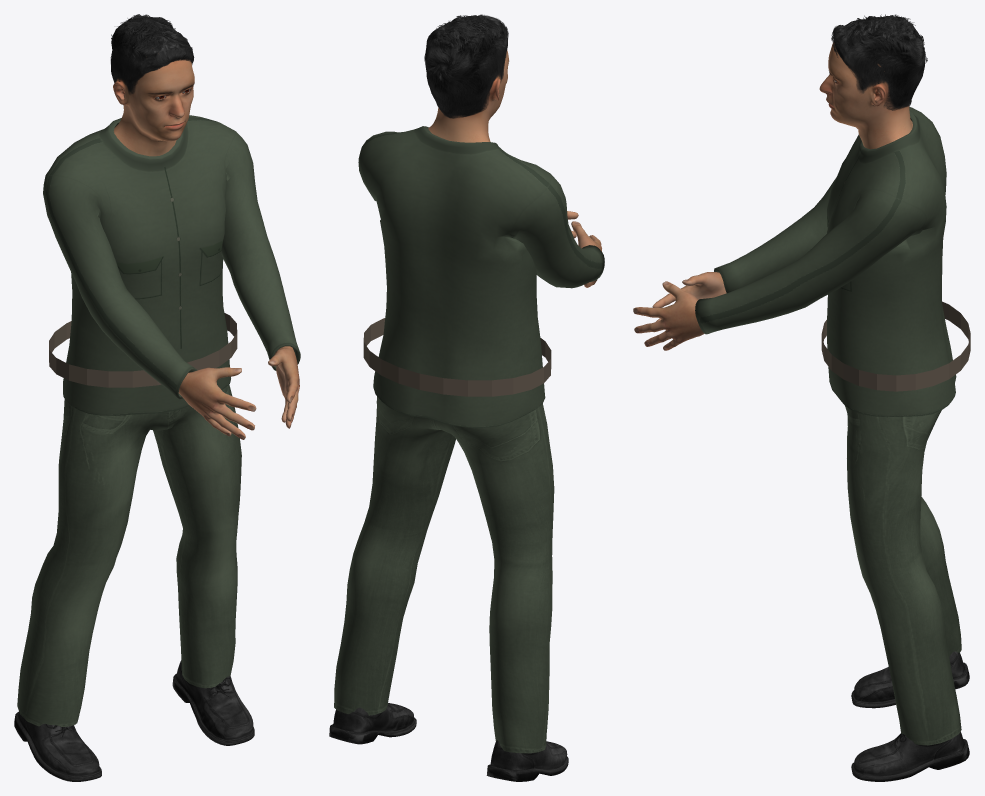
The model's file is guard_field_morph.glb.
3 views of the same model, side by side, from view 1: azimuth 30°, elevation 25°; view 2: azimuth 150°, elevation 25°; view 3: azimuth 270°, elevation 25° (orthographic).
Visible parts, largest first — view 1: Field_ContactBody.male_casualsuit02, Field_ContactBody, Field_ContactBody.shoes04, Field_ContactBody.short01, Field_Plain leather waist belt; view 2: Field_ContactBody.male_casualsuit02, Field_ContactBody.short01, Field_ContactBody.shoes04, Field_Plain leather waist belt, Field_ContactBody; view 3: Field_ContactBody.male_casualsuit02, Field_ContactBody, Field_ContactBody.short01, Field_ContactBody.shoes04, Field_Plain leather waist belt.
Boxes of the visible parts, box(x1,y1,x2,y2) form: Field_ContactBody.male_casualsuit02: box(17, 115, 300, 726); Field_ContactBody: box(113, 59, 299, 439); Field_ContactBody.shoes04: box(14, 660, 254, 781); Field_ContactBody.short01: box(110, 14, 194, 105); Field_Plain leather waist belt: box(49, 313, 237, 387); Field_ContactBody.male_casualsuit02: box(334, 126, 604, 753); Field_ContactBody.short01: box(424, 14, 508, 118); Field_ContactBody.shoes04: box(329, 703, 568, 781); Field_Plain leather waist belt: box(363, 318, 551, 396); Field_ContactBody: box(428, 50, 601, 287); Field_ContactBody.male_casualsuit02: box(695, 107, 961, 745); Field_ContactBody: box(633, 42, 912, 350); Field_ContactBody.short01: box(831, 14, 927, 110); Field_ContactBody.shoes04: box(851, 651, 969, 781); Field_Plain leather waist belt: box(821, 301, 970, 391).
Bounding box in the file's own units: 0.4944 × 1.69 × 0.7199.
Materials: 8 (7 with a texture image).
